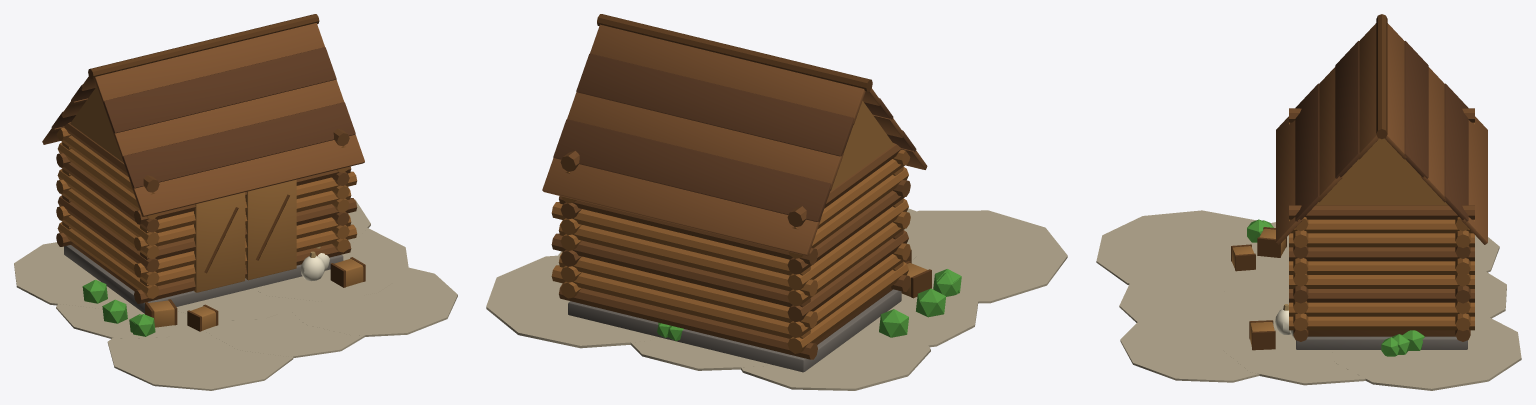
File: magazyn_poz06.glb
3 views of the same model, side by side, from view 1: azimuth 30°, elevation 25°; view 2: azimuth 150°, elevation 25°; view 3: azimuth 270°, elevation 25° (orthographic). The views are drawn at different scales.
Visible parts, largest first — view 1: magazyn_poz06; view 2: magazyn_poz06; view 3: magazyn_poz06.
Boxes of the visible parts, x1=… form: magazyn_poz06: x1=14, y1=14, x2=457, y2=390; magazyn_poz06: x1=486, y1=14, x2=1067, y2=390; magazyn_poz06: x1=1096, y1=14, x2=1521, y2=390.
Bounding box in the file's own units: 8.86 × 5.43 × 8.91.
